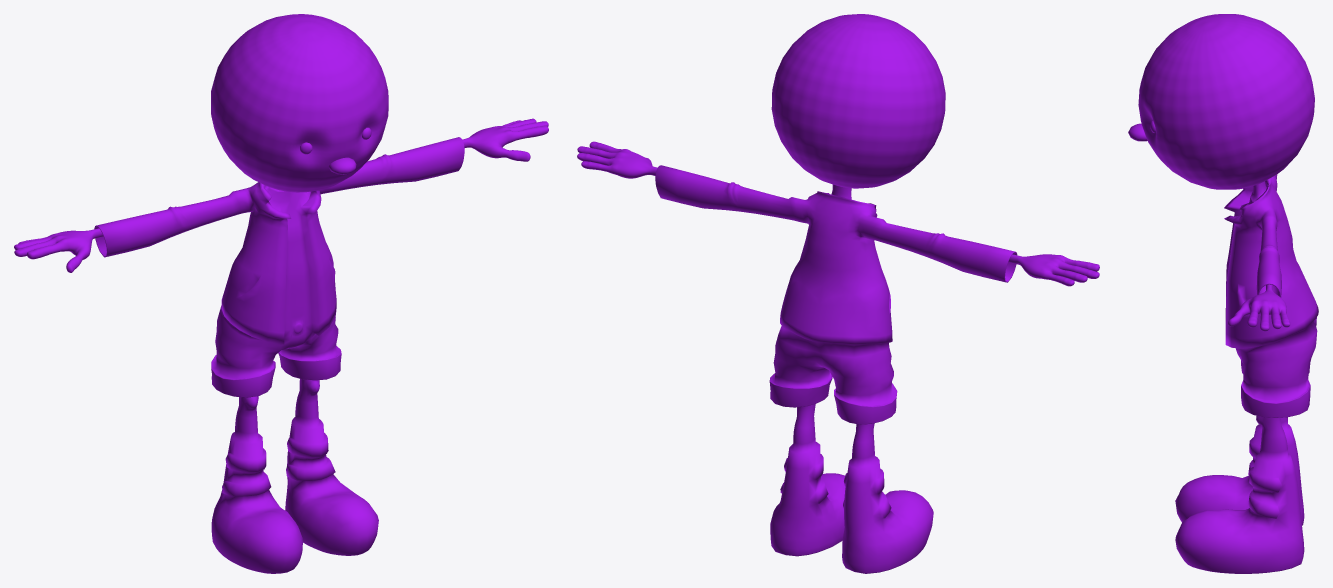
Rendered from child character.fbx.
3 views of the same model, side by side, from view 1: azimuth 30°, elevation 25°; view 2: azimuth 150°, elevation 25°; view 3: azimuth 270°, elevation 25° (orthographic). The views are drawn at different scales.
Visible parts, largest first — view 1: Ch09; view 2: Ch09; view 3: Ch09.
Part boxes in pixels (bbox=[...]): Ch09: bbox=[14, 14, 548, 573]; Ch09: bbox=[577, 14, 1099, 573]; Ch09: bbox=[1128, 14, 1318, 573].
Bounding box in the file's own units: 148 × 140 × 46.54.
